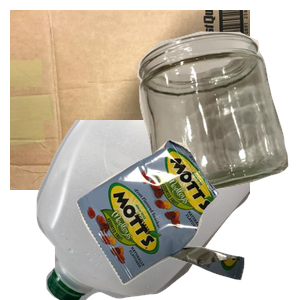cardboard: (10, 10, 250, 190)
glass: (135, 29, 300, 209)
plastic: (34, 120, 274, 300)
trash: (74, 137, 300, 300)
